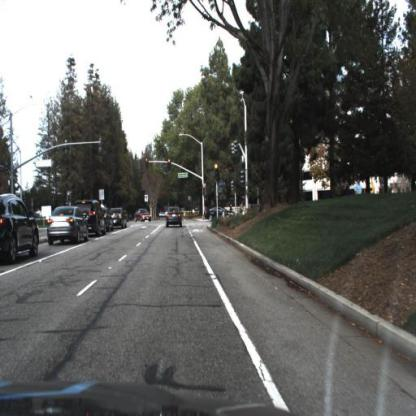car: (1, 194, 41, 264), (46, 205, 90, 246), (89, 200, 107, 239), (207, 207, 232, 223), (166, 206, 184, 228), (132, 208, 155, 225), (114, 206, 128, 231)
pedestrian: (356, 175, 366, 198), (342, 180, 349, 199)
trafficLight-Red: (212, 159, 221, 182), (214, 164, 220, 182), (203, 184, 209, 201), (167, 158, 172, 172), (67, 191, 72, 203)
trafficLight-RedLeft: (144, 156, 150, 171)
